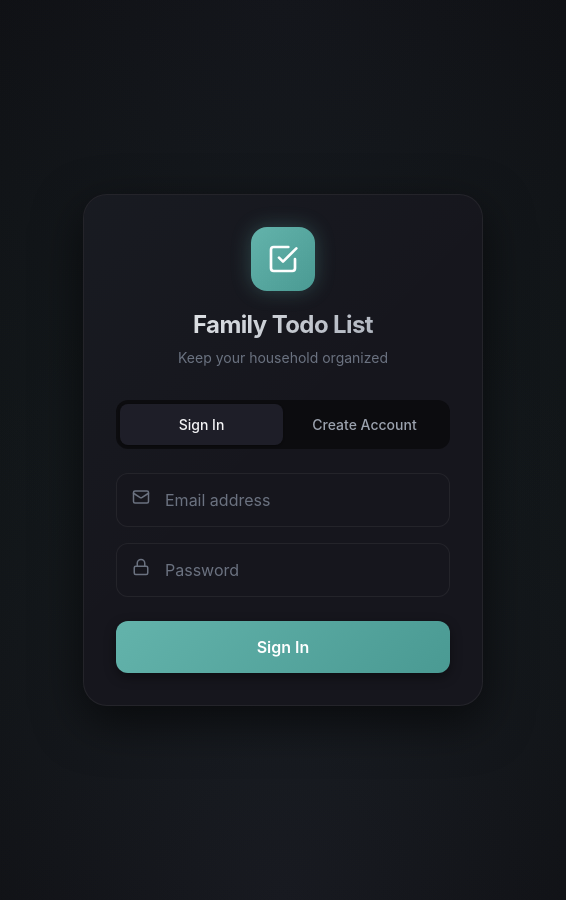
Scenario: LoginPage › mode switching › should switch to register mode when Register button is clicked
Click the button "Create Account" at {"x": 364, "y": 424}, box [283,404,446,445]
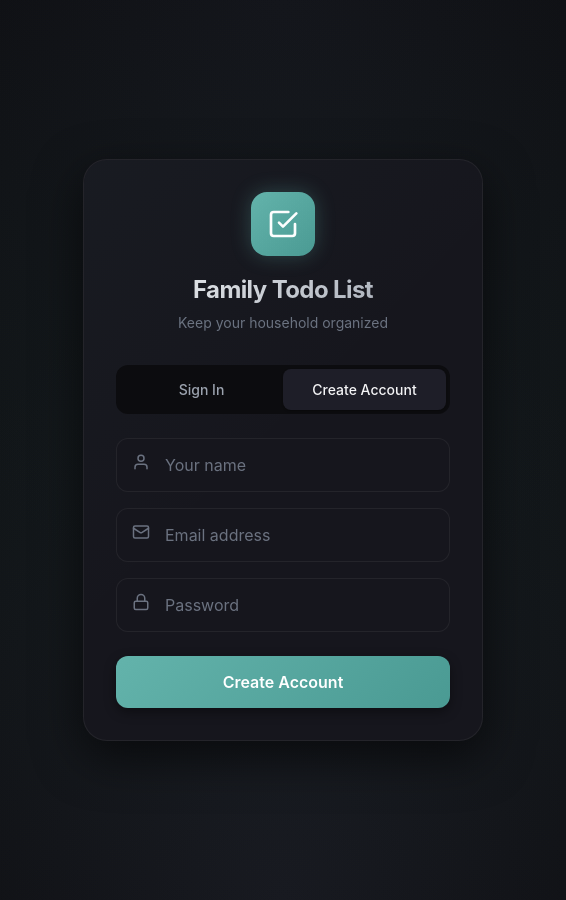
Expected: the field with placeholder "Your name" is shown, [116,438,450,492]
Expected: the 2nd button "Create Account" is shown, [116,656,450,708]
